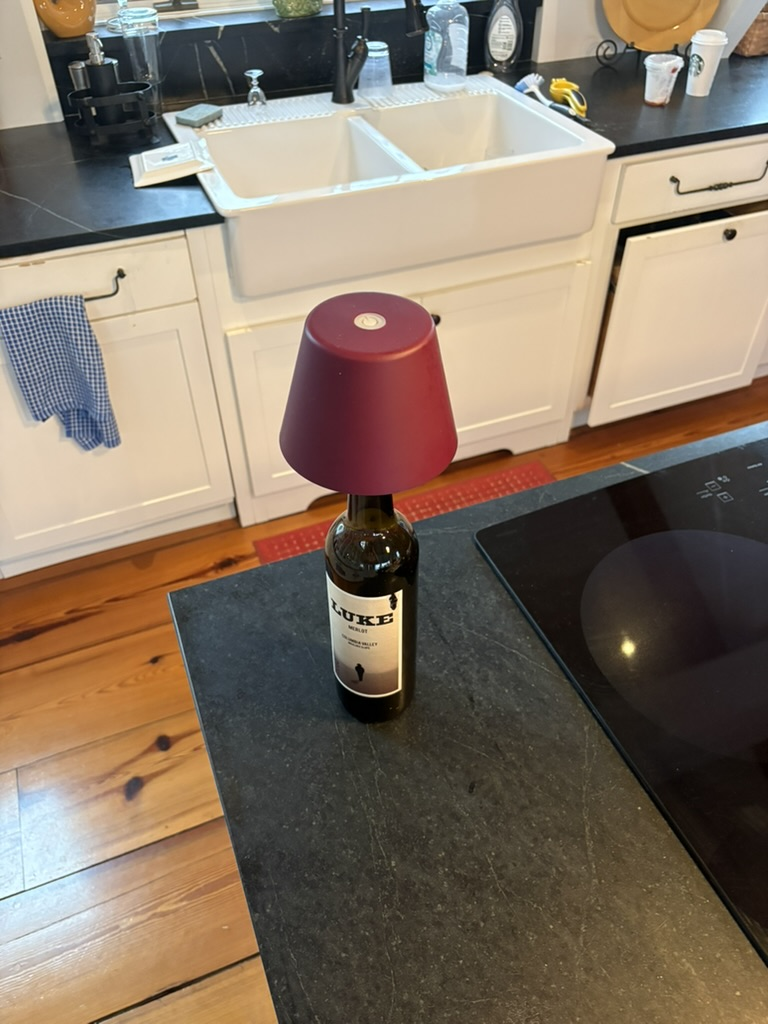box: (271, 286, 466, 732)
